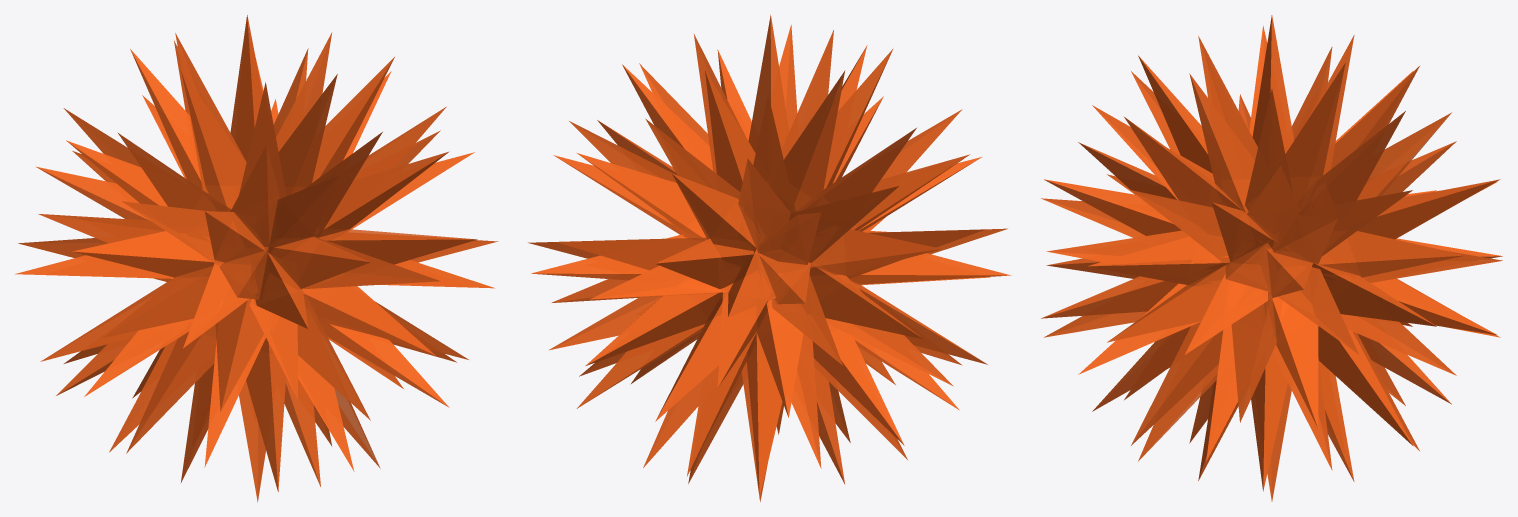
File: GreatPentagrammicHexecontahedron.obj
3 renders of one model, left to right at view 1: azimuth 30°, elevation 25°; view 2: azimuth 150°, elevation 25°; view 3: azimuth 270°, elevation 25°, orthographic.
Size of the model in its own units: 2.95 by 2.95 by 2.95.
